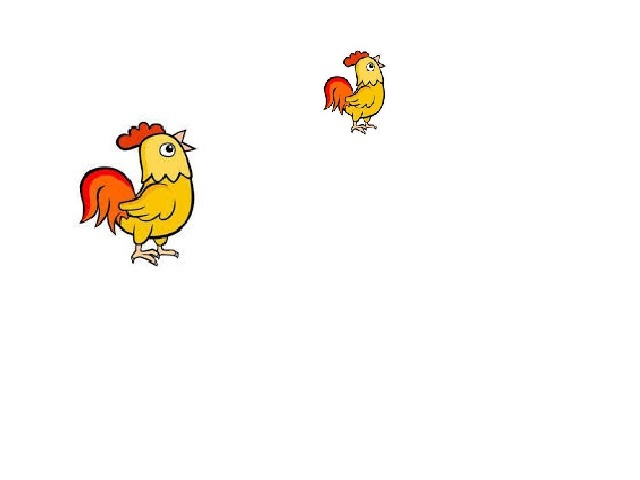crown: (117, 125, 166, 144), (342, 50, 369, 65)
eyes: (155, 139, 179, 160), (366, 63, 376, 74)
feet: (133, 245, 187, 265), (351, 120, 381, 137)
tail: (74, 166, 139, 230), (320, 76, 353, 115)
